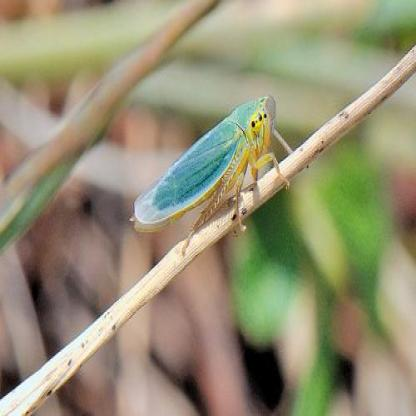Green-Leafhopper: (131, 94, 290, 256)
